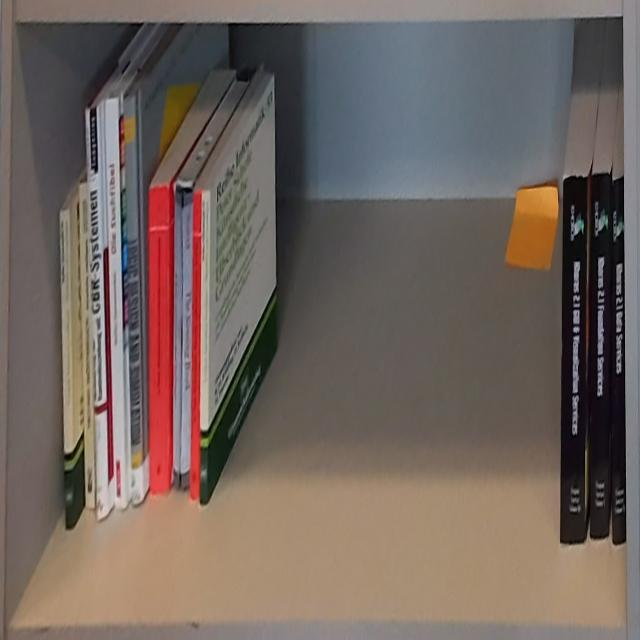Book Spine: (561, 175, 589, 543), (123, 90, 145, 507), (105, 97, 127, 508), (86, 106, 107, 517), (590, 171, 612, 538), (148, 186, 171, 492), (79, 181, 95, 513), (612, 176, 626, 546), (60, 208, 75, 531), (189, 189, 202, 501), (180, 189, 193, 490), (200, 189, 212, 505), (172, 186, 181, 494)
